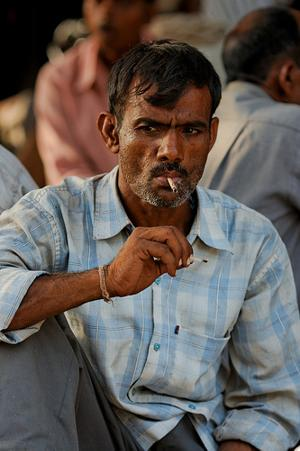person: (1, 38, 299, 451)
